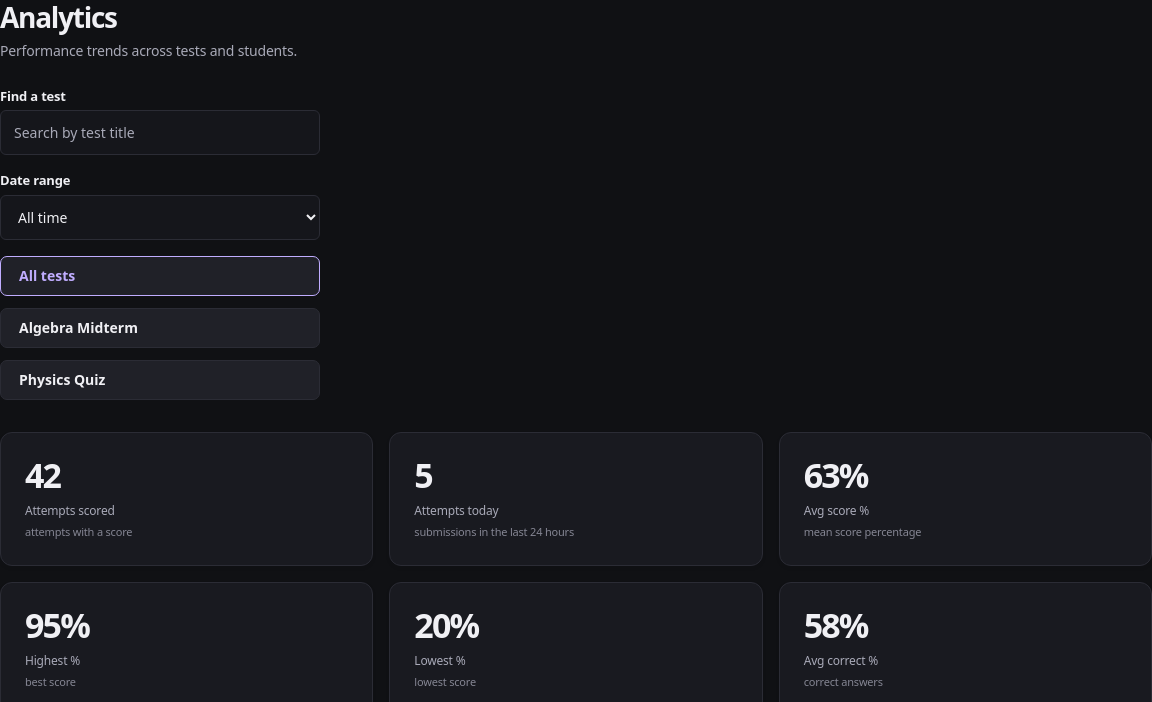
it: Analytics › filters the test picker list by title search
This screenshot has width=1152, height=702.
Expected: the button "Algebra Midterm" is shown, [0,308,320,348]
Expected: the button "Physics Quiz" is shown, [0,360,320,400]
Type "algebra" into the field labelled "Find a test" at coordinates (160, 133), box [0,110,320,155]
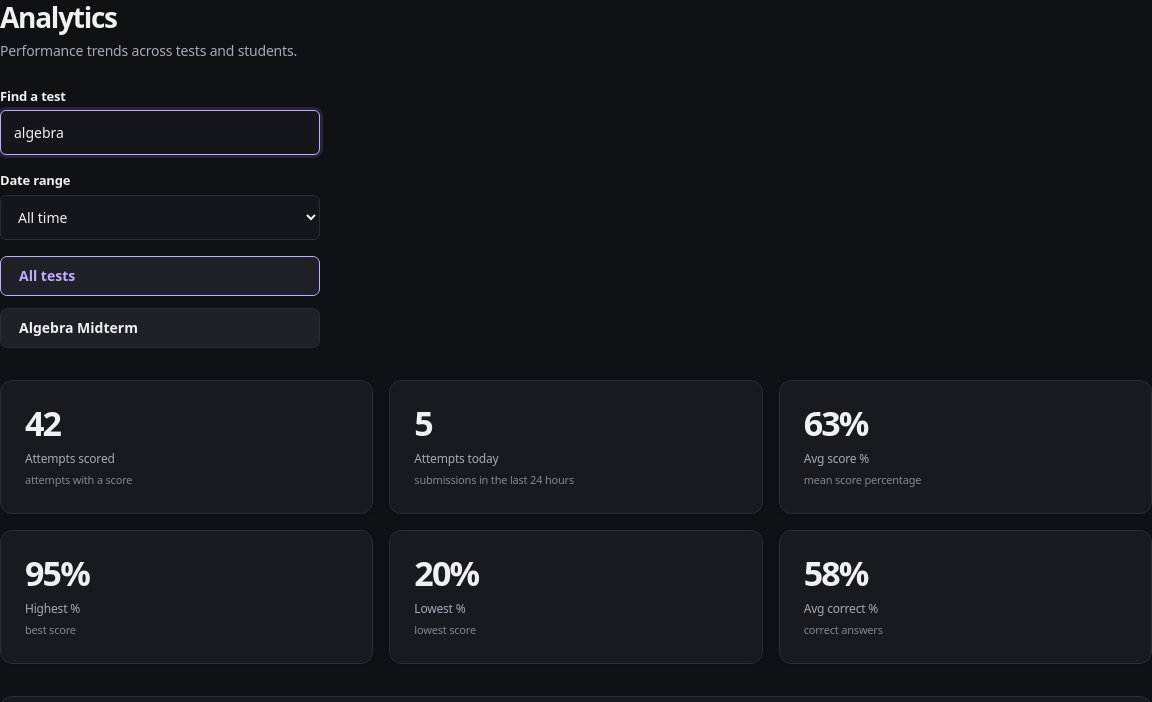
Expected: the button "Algebra Midterm" is shown, [0,308,320,348]
Expected: the button "Physics Quiz" is gone
A search that matches nothing does show the hint.
Type "zzz" into the field labelled "Find a test" at coordinates (160, 133), box [0,110,320,155]
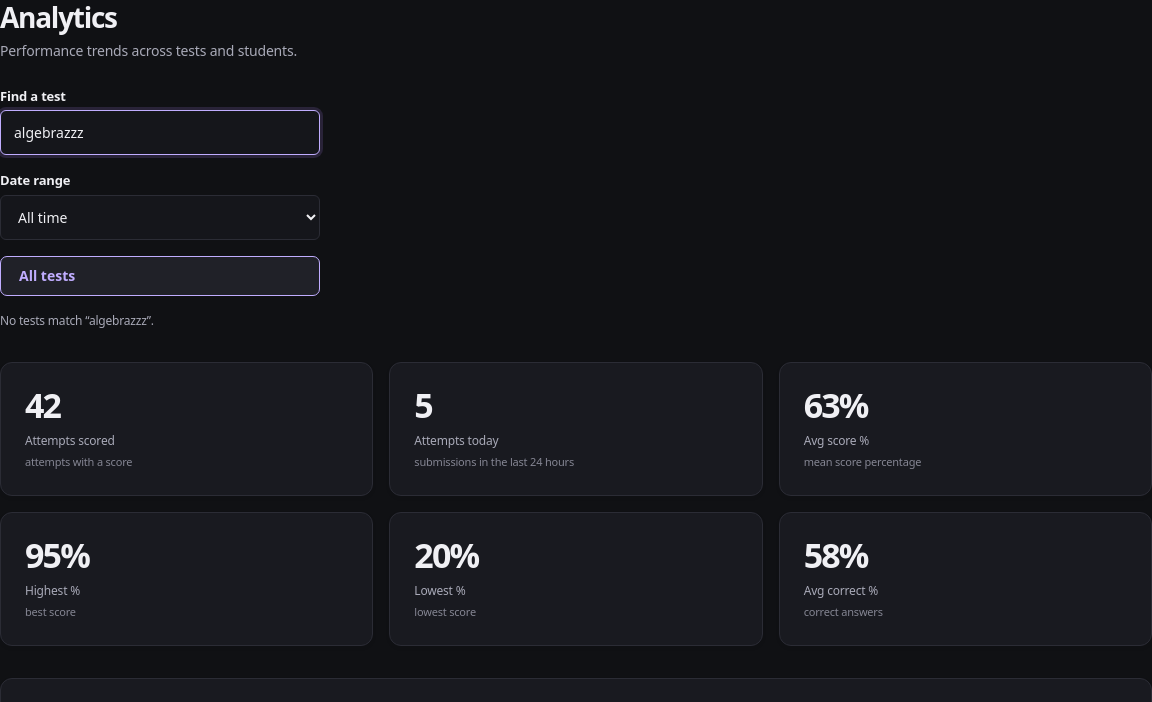
Expected: the text "No tests match" is shown, [0,312,89,329]
